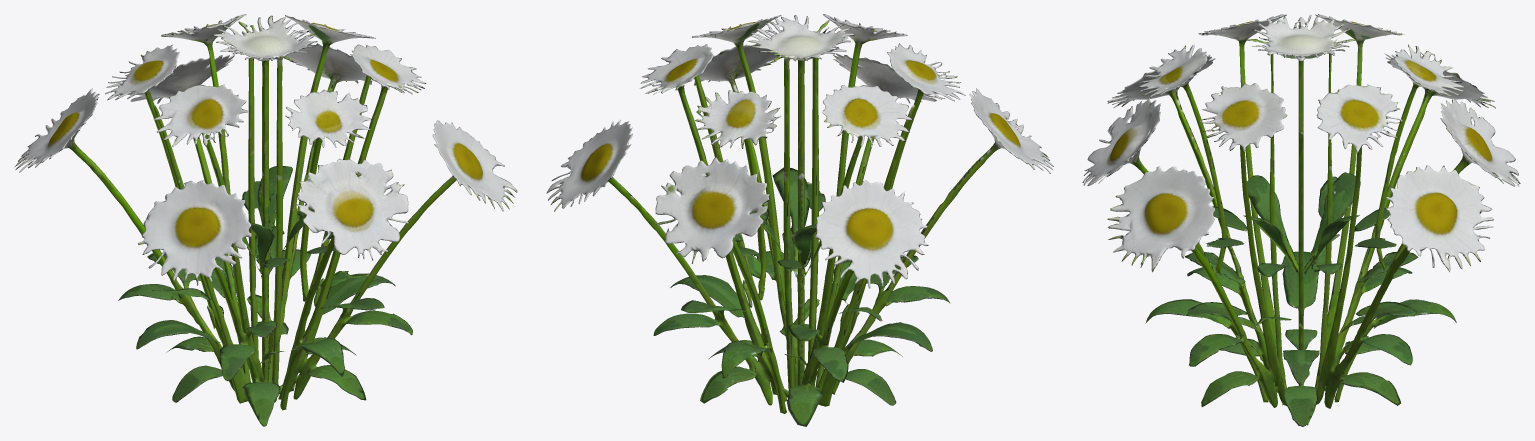
The model's file is wildflower_daisies.glb.
The picture shows the model from 3 angles, left to right: view 1: azimuth 30°, elevation 25°; view 2: azimuth 150°, elevation 25°; view 3: azimuth 270°, elevation 25°; orthographic projection.
Parts seen in each view (by area): view 1: model; view 2: model; view 3: model.
Part boxes in pixels (bbox=[...]): model: bbox=[15, 14, 517, 426]; model: bbox=[546, 14, 1053, 426]; model: bbox=[1082, 14, 1520, 426].
Bounding box in the file's own units: 1.84 × 1.75 × 1.88.
1 material, 1 textured.
